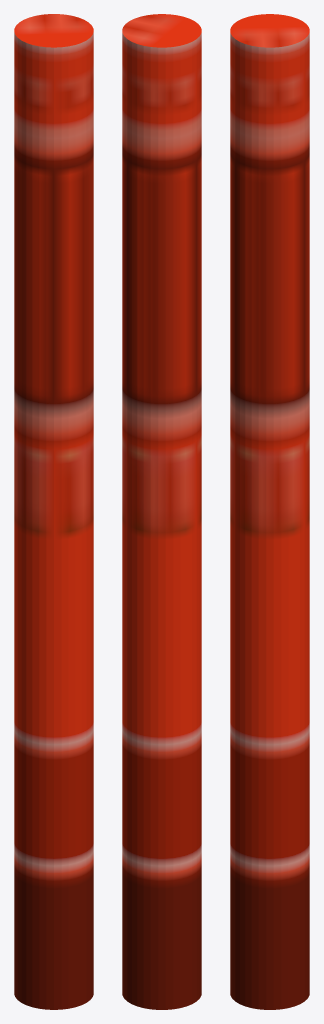
The model's file is flag1r.obj.
3 renders of one model, left to right at view 1: azimuth 90°, elevation 25°; view 2: azimuth 150°, elevation 25°; view 3: azimuth 270°, elevation 25°, orthographic.
Visible parts, largest first — view 1: ColobotMesh_1_ColobotMesh_; view 2: ColobotMesh_1_ColobotMesh_; view 3: ColobotMesh_1_ColobotMesh_.
Boxes of the visible parts, bbox=[...] form: ColobotMesh_1_ColobotMesh_: bbox=[14, 14, 93, 1009]; ColobotMesh_1_ColobotMesh_: bbox=[122, 14, 201, 1009]; ColobotMesh_1_ColobotMesh_: bbox=[230, 14, 309, 1009].
Bounding box in the file's own units: 0.5986 × 7.99 × 0.5993.
